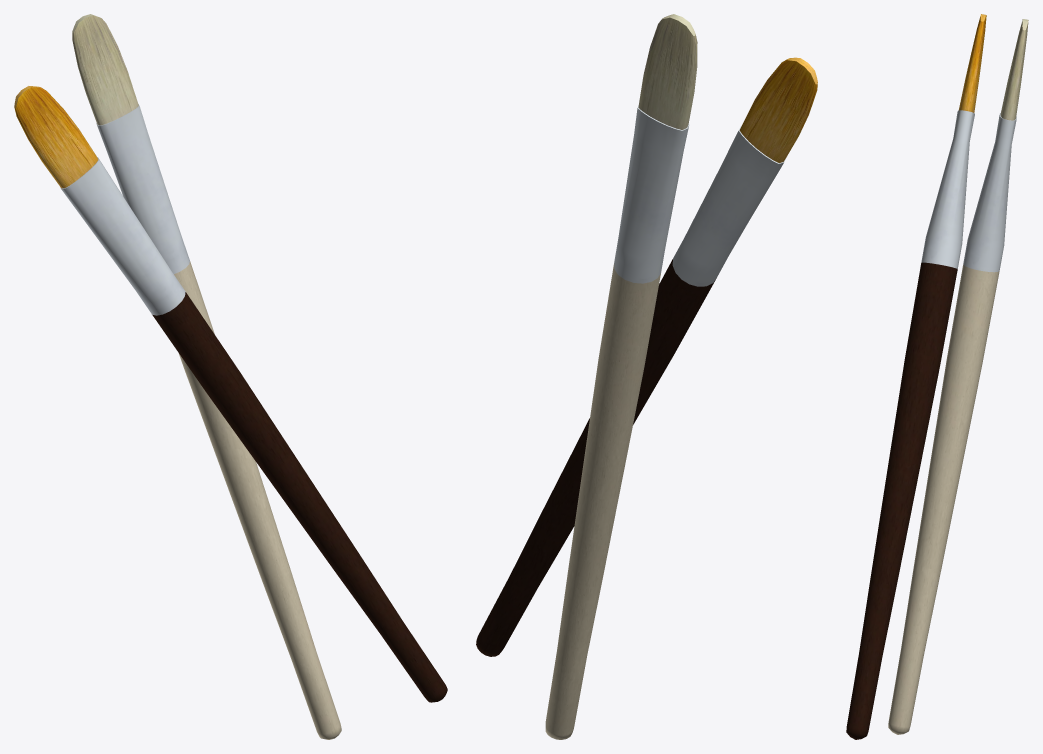
Rendered from Graphic_Design_Brush.glb.
3 views of the same model, side by side, from view 1: azimuth 30°, elevation 25°; view 2: azimuth 150°, elevation 25°; view 3: azimuth 270°, elevation 25° (orthographic). The views are drawn at different scales.
Parts seen in each view (by area): view 1: PaintBrush3, PaintBrush3v2; view 2: PaintBrush3v2, PaintBrush3; view 3: PaintBrush3, PaintBrush3v2.
Part boxes in pixels (bbox=[...]): PaintBrush3: bbox=[14, 86, 447, 702]; PaintBrush3v2: bbox=[72, 14, 341, 739]; PaintBrush3v2: bbox=[545, 14, 697, 739]; PaintBrush3: bbox=[476, 57, 817, 656]; PaintBrush3: bbox=[846, 14, 986, 739]; PaintBrush3v2: bbox=[888, 19, 1028, 734].
Size of the model in its own units: 0.1117 by 0.2108 by 0.0544.
2 materials, 2 textured.
